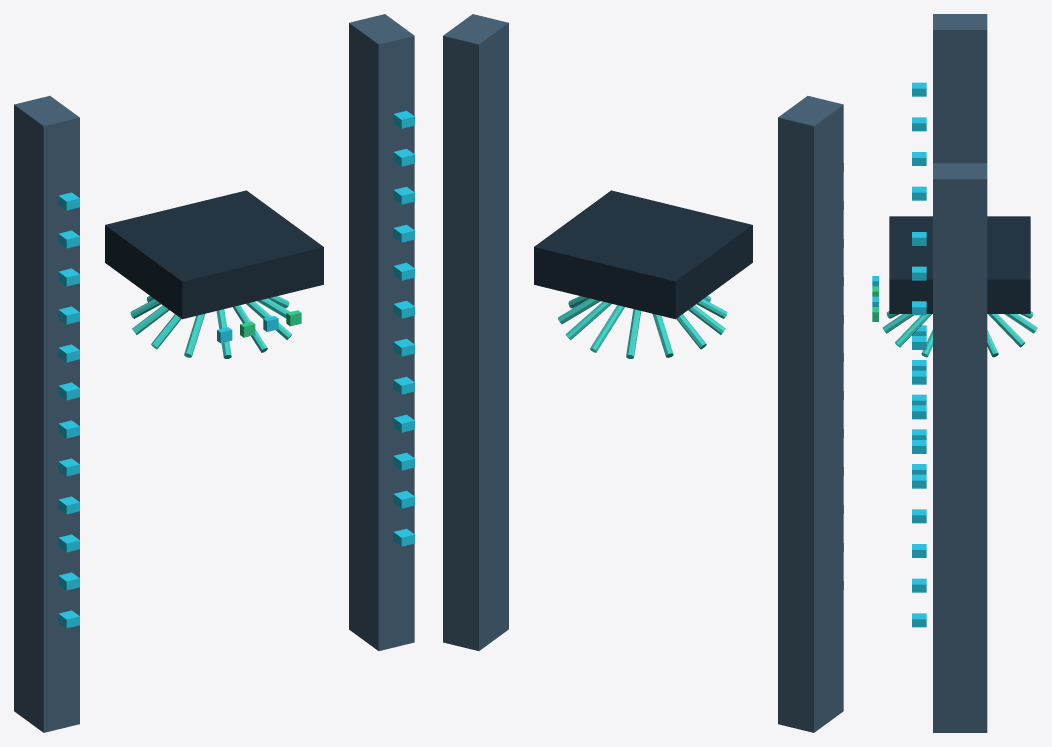
File: 12_L79_DieTransferAirCurtain.fbx
The picture shows the model from 3 angles, left to right: view 1: azimuth 30°, elevation 25°; view 2: azimuth 150°, elevation 25°; view 3: azimuth 270°, elevation 25°; orthographic projection. The views are drawn at different scales.
Parts seen in each view (by area): view 1: DieTransferAirCurtain, DieTransferAirCurtain_Part_0026; view 2: DieTransferAirCurtain, DieTransferAirCurtain_Part_0026; view 3: DieTransferAirCurtain, DieTransferAirCurtain_Part_0026, DieTransferAirCurtain_Part_0038, DieTransferAirCurtain_Part_0029.
Part boxes in pixels (x1,y1,x2,y2): DieTransferAirCurtain: [14, 14, 414, 732]; DieTransferAirCurtain_Part_0026: [105, 190, 323, 319]; DieTransferAirCurtain: [443, 14, 843, 732]; DieTransferAirCurtain_Part_0026: [534, 190, 752, 319]; DieTransferAirCurtain: [872, 14, 987, 732]; DieTransferAirCurtain_Part_0026: [889, 216, 1030, 313]; DieTransferAirCurtain_Part_0038: [988, 314, 1025, 347]; DieTransferAirCurtain_Part_0029: [895, 314, 931, 347].
Size of the model in its own units: 144 by 225 by 60.94.
